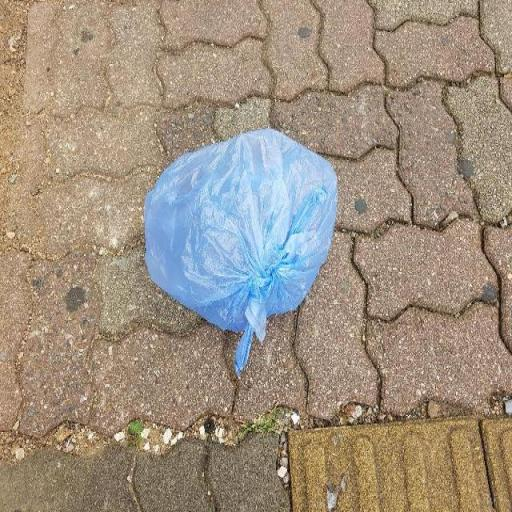plastic-bag: (142, 128, 340, 362)
